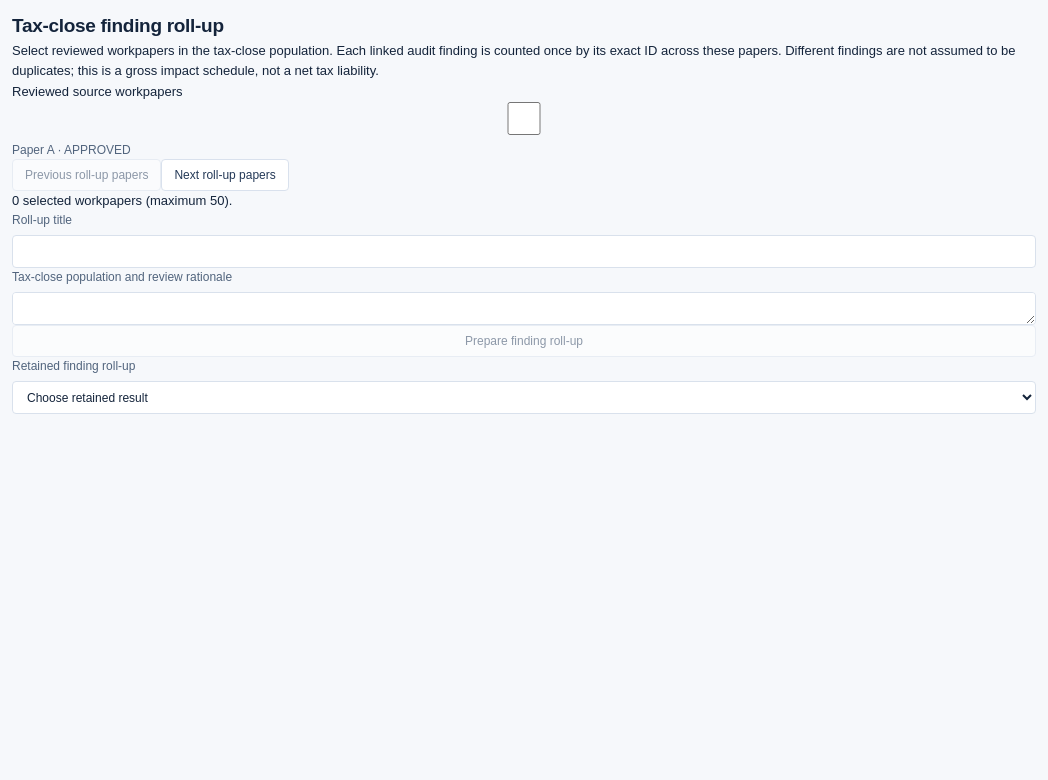
Test: tax-close exposure source population › retains papers across pages, excludes drafts and sends exact source identities
Click the checkbox labelled "Paper A · APPROVED" at (524, 118), box [12,102,1036,135]
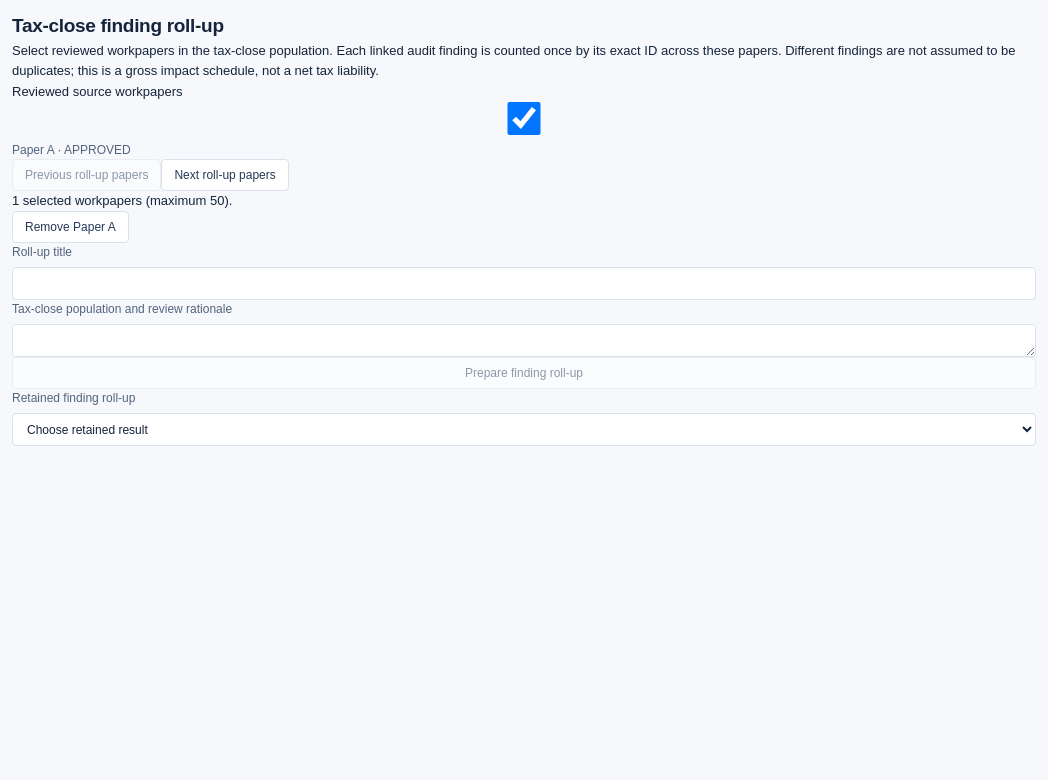
Click the button "Next roll-up papers" at (225, 175), box [161,159,289,191]
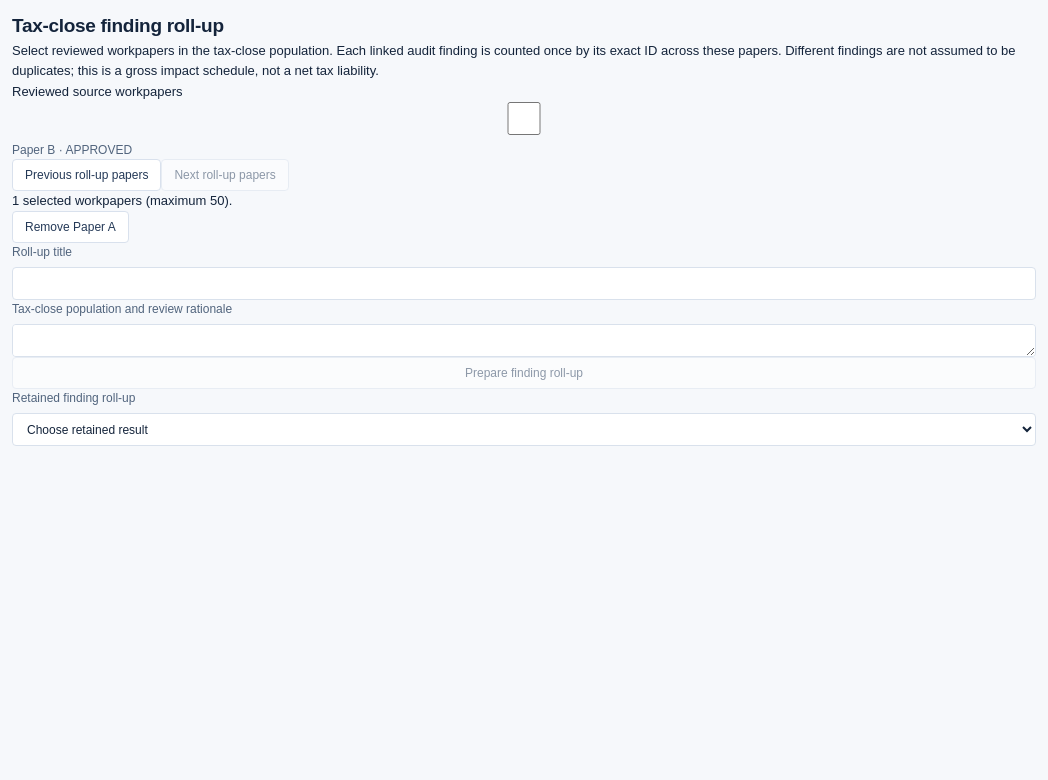
Click the checkbox labelled "Paper B · APPROVED" at (524, 118), box [12,102,1036,135]
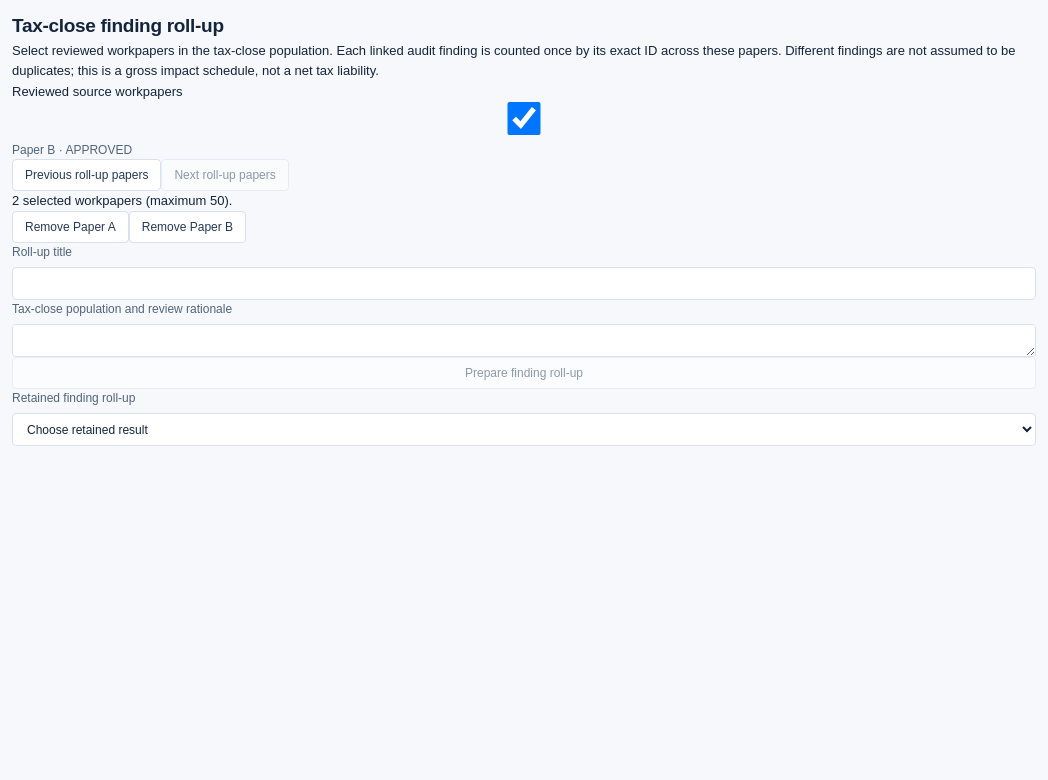
Type "Tax close" into the field labelled "Roll-up title" at (524, 284), box [12,267,1036,300]
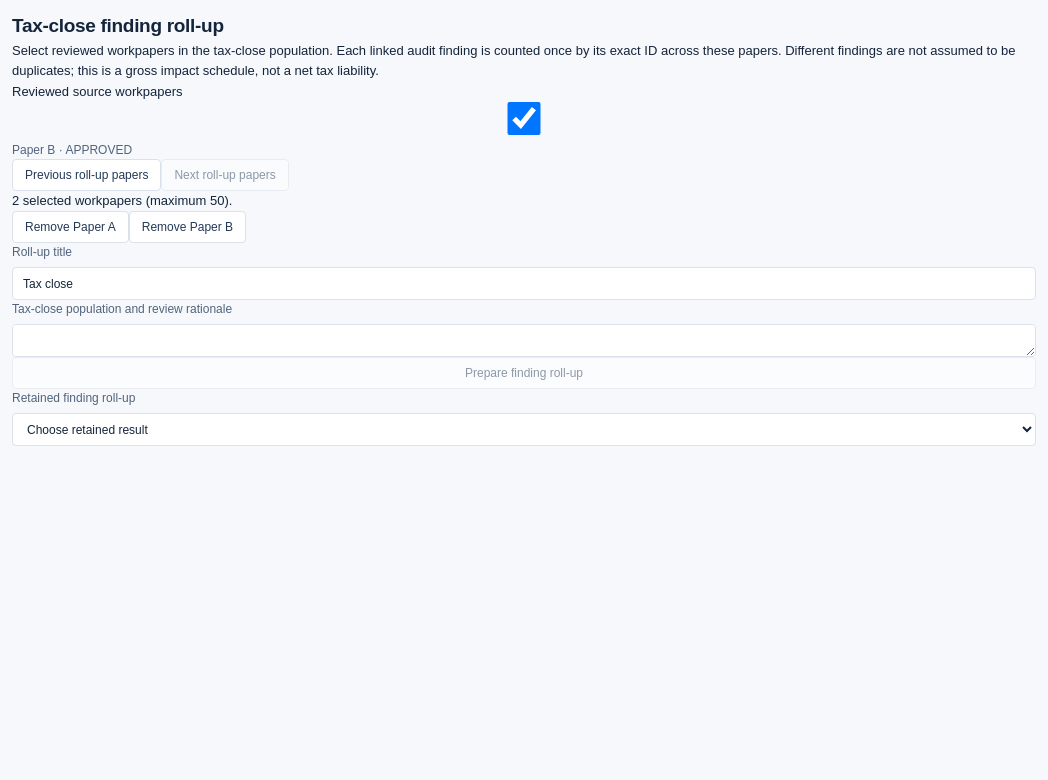
Type "Reviewed source population rationale" into the text box labelled "Tax-close population and review rationale" at (524, 341), box [12,324,1036,357]
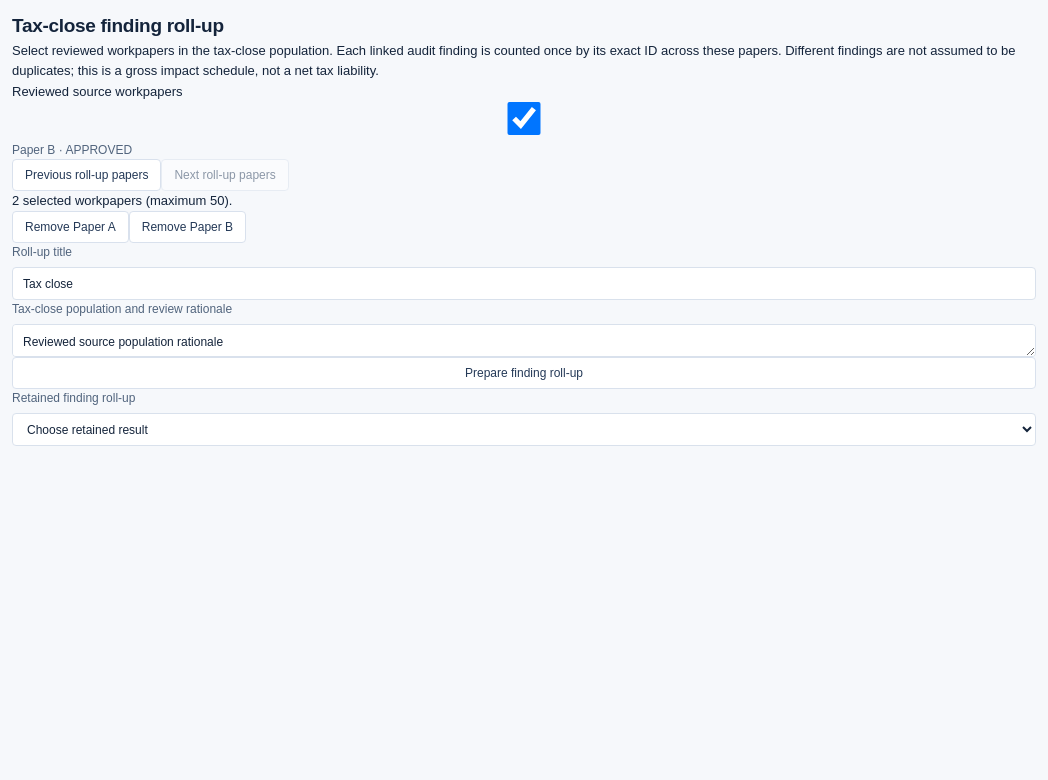
Click the button "Prepare finding roll-up" at (524, 373), box [12,357,1036,389]
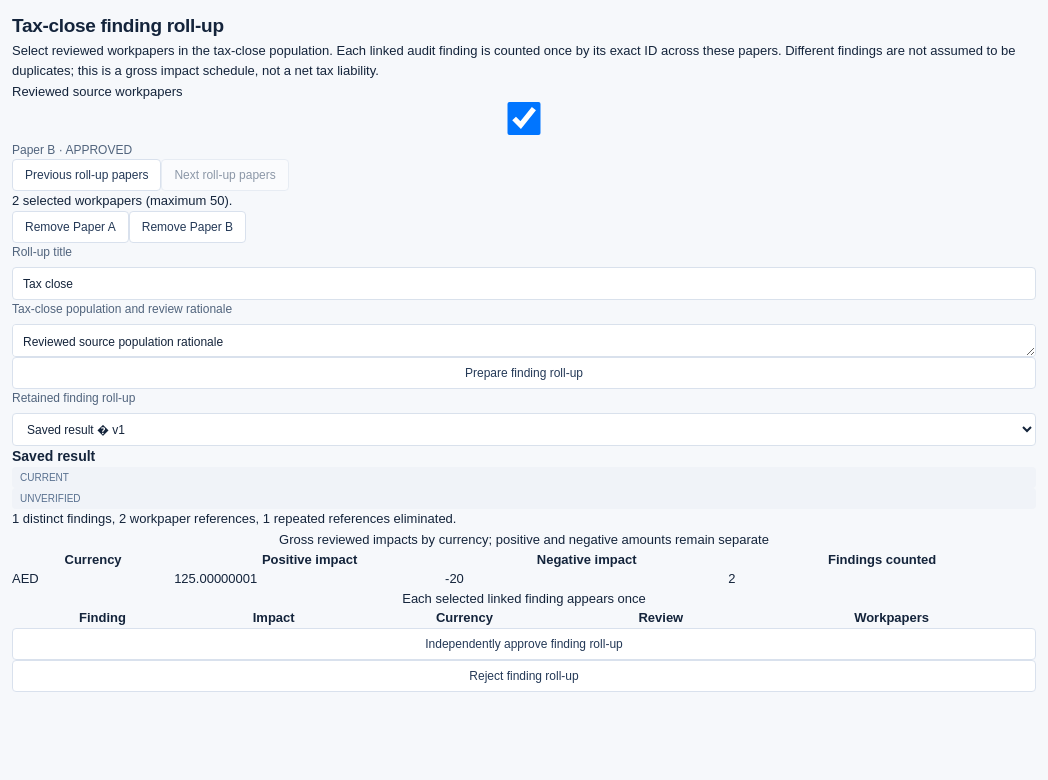
Result: the text "1 repeated references eliminated" is shown at [12,511,456,526]
Result: the text "125.00000001" is shown at [174,569,445,589]
Result: the text "-20" is shown at [445,569,728,589]
